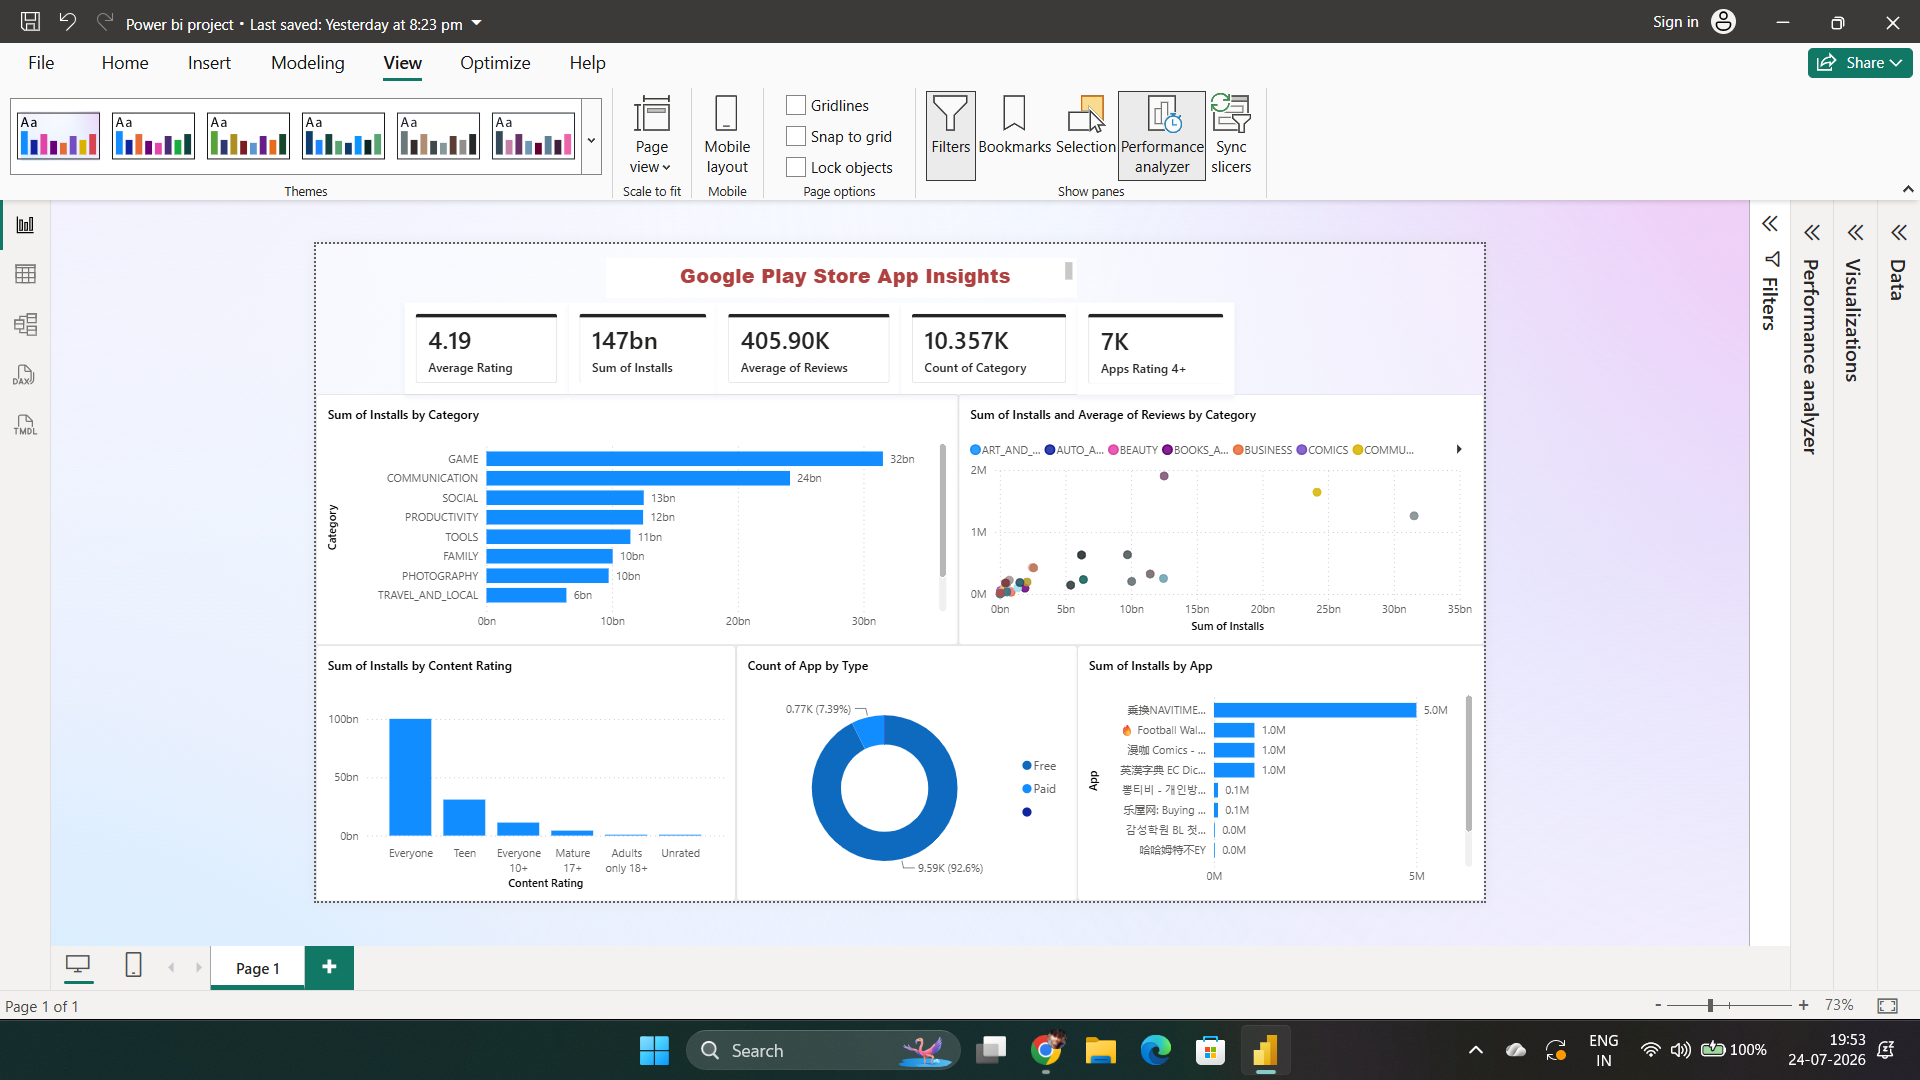

The page's visual inventory and layout, read from the dashboard file:
{"tool":"powerbi","page":{"name":"Page 1","canvas":[1280,720],"ordinal":0},"visuals":[{"type":"clusteredBarChart","fields":{"Category":["googleplaystore_fully_cleaned.Category"],"Y":["Sum(googleplaystore_fully_cleaned.Installs)"]},"box":[0,164.4,704.1,275.3],"z":0},{"type":"scatterChart","fields":{"X":["Sum(googleplaystore_fully_cleaned.Installs)"],"Y":["Avg(googleplaystore_fully_cleaned.Reviews)"],"Series":["googleplaystore_fully_cleaned.Category"]},"box":[704.1,164.4,576.2,275],"z":1000},{"type":"donutChart","fields":{"Category":["googleplaystore_fully_cleaned.Type"],"Y":["CountNonNull(googleplaystore_fully_cleaned.App)"]},"box":[460.3,439.7,374.2,280],"z":2000},{"type":"clusteredColumnChart","fields":{"Category":["googleplaystore_fully_cleaned.Content Rating"],"Y":["Sum(googleplaystore_fully_cleaned.Installs)"]},"box":[0,439.7,460.3,280.8],"z":3000},{"type":"cardVisual","fields":{"Data":["googleplaystore_fully_cleaned.Average Rating"]},"box":[97.3,64.4,179.5,100],"z":4000},{"type":"cardVisual","fields":{"Data":["Sum(googleplaystore_fully_cleaned.Installs)"]},"box":[276.7,64.4,163,100],"z":5000},{"type":"cardVisual","fields":{"Data":["Avg(googleplaystore_fully_cleaned.Reviews)"]},"box":[439.7,64.4,201.4,100],"z":6000},{"type":"cardVisual","fields":{"Data":["CountNonNull(googleplaystore_fully_cleaned.Category)","select"]},"box":[641.1,64.4,193.2,100],"z":7000},{"type":"cardVisual","fields":{"Data":["googleplaystore_fully_cleaned.Apps Rating 4+"]},"box":[833.8,63.8,172.5,101.2],"z":8000},{"type":"textbox","box":[317.5,15,516.2,43.8],"z":9000},{"type":"clusteredBarChart","fields":{"Category":["googleplaystore_fully_cleaned.App"],"Y":["Sum(googleplaystore_fully_cleaned.Installs)"]},"box":[834.2,439.7,446.2,280],"z":10000}]}

Visuals, with their boxes on the page's 1280x720 design canvas (x1, y1, x2, y2). These are canvas units, not pixel positions in the 1920x1080 screenshot, which may show the page scaled, cropped or inside an application window:
clusteredBarChart - googleplaystore_fully_cleaned.Category x Sum(googleplaystore_fully_cleaned.Installs): x1=0, y1=164, x2=704, y2=440
scatterChart - Sum(googleplaystore_fully_cleaned.Installs) x Avg(googleplaystore_fully_cleaned.Reviews): x1=704, y1=164, x2=1280, y2=439
donutChart - googleplaystore_fully_cleaned.Type x CountNonNull(googleplaystore_fully_cleaned.App): x1=460, y1=440, x2=834, y2=720
clusteredColumnChart - googleplaystore_fully_cleaned.Content Rating x Sum(googleplaystore_fully_cleaned.Installs): x1=0, y1=440, x2=460, y2=720
cardVisual - googleplaystore_fully_cleaned.Average Rating: x1=97, y1=64, x2=277, y2=164
cardVisual - Sum(googleplaystore_fully_cleaned.Installs): x1=277, y1=64, x2=440, y2=164
cardVisual - Avg(googleplaystore_fully_cleaned.Reviews): x1=440, y1=64, x2=641, y2=164
cardVisual - CountNonNull(googleplaystore_fully_cleaned.Category) x select: x1=641, y1=64, x2=834, y2=164
cardVisual - googleplaystore_fully_cleaned.Apps Rating 4+: x1=834, y1=64, x2=1006, y2=165
textbox: x1=318, y1=15, x2=834, y2=59
clusteredBarChart - googleplaystore_fully_cleaned.App x Sum(googleplaystore_fully_cleaned.Installs): x1=834, y1=440, x2=1280, y2=720
